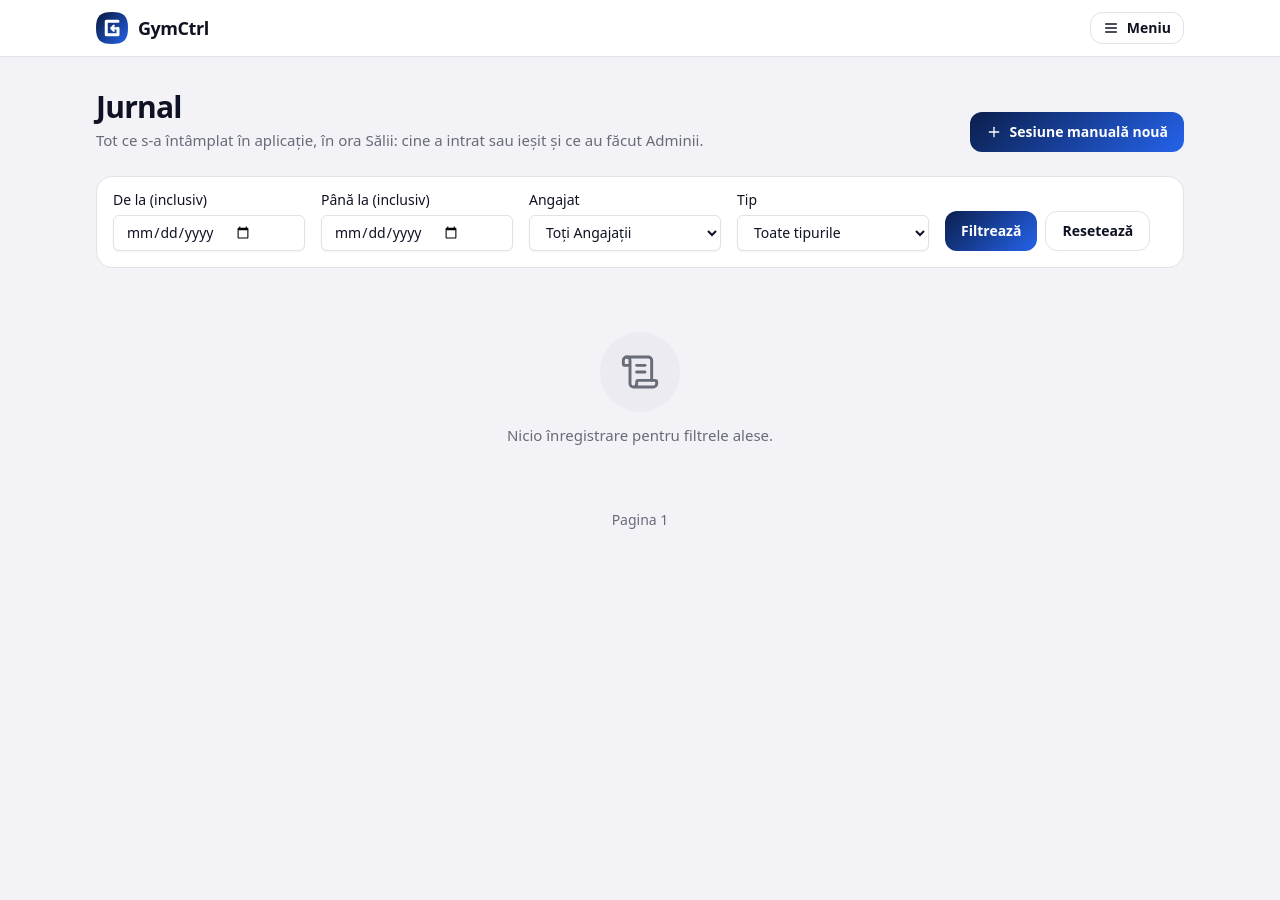
Test: Sesiuni manuale › arată o eroare fără câmp (suprapunere) la nivel de formular
The width and height of the screenshot is (1280, 900).
Click the button "Sesiune manuală nouă" at (1077, 132), box left=970, top=112, right=1184, bottom=152
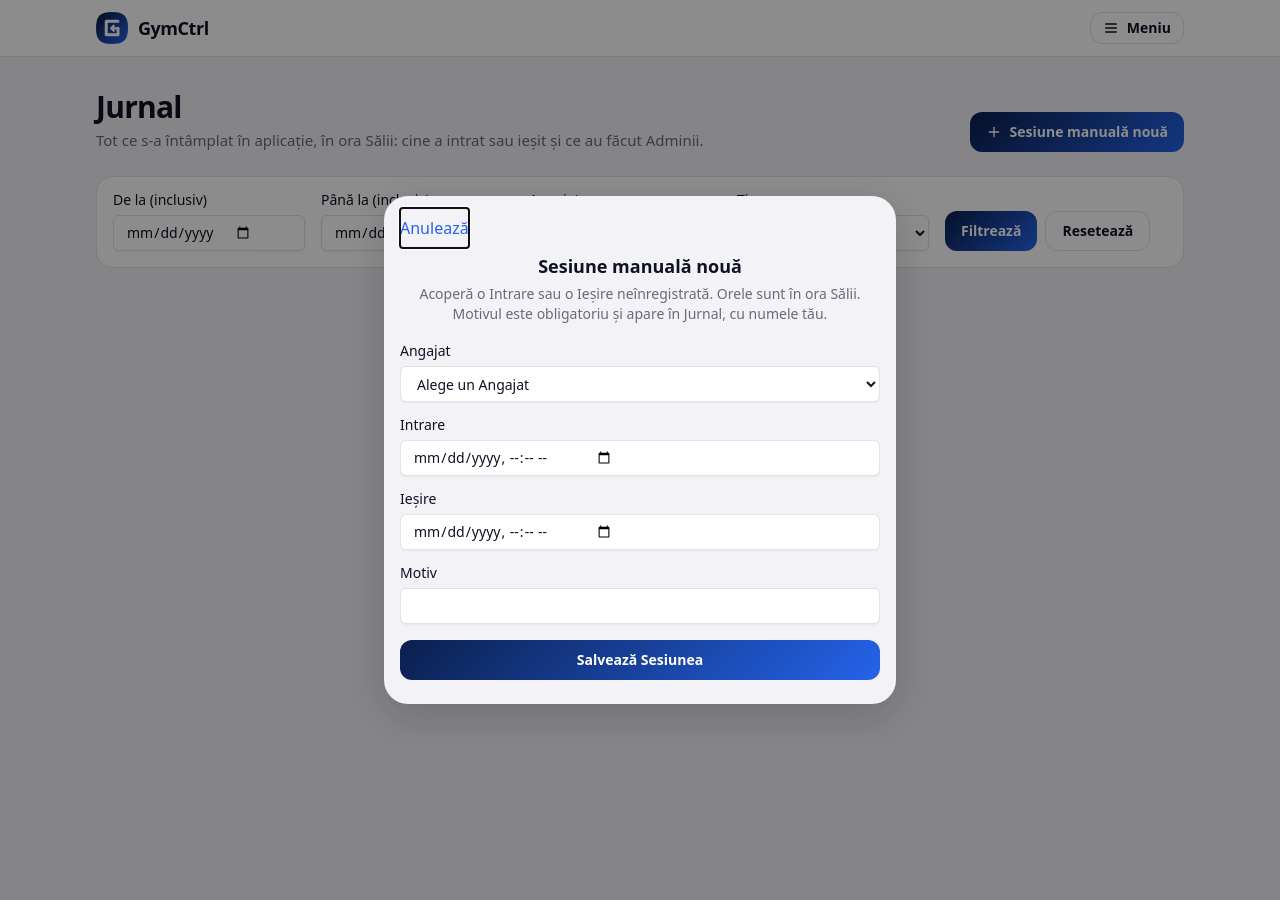
Click the button "Salvează Sesiunea" at (640, 660), box left=400, top=640, right=880, bottom=680
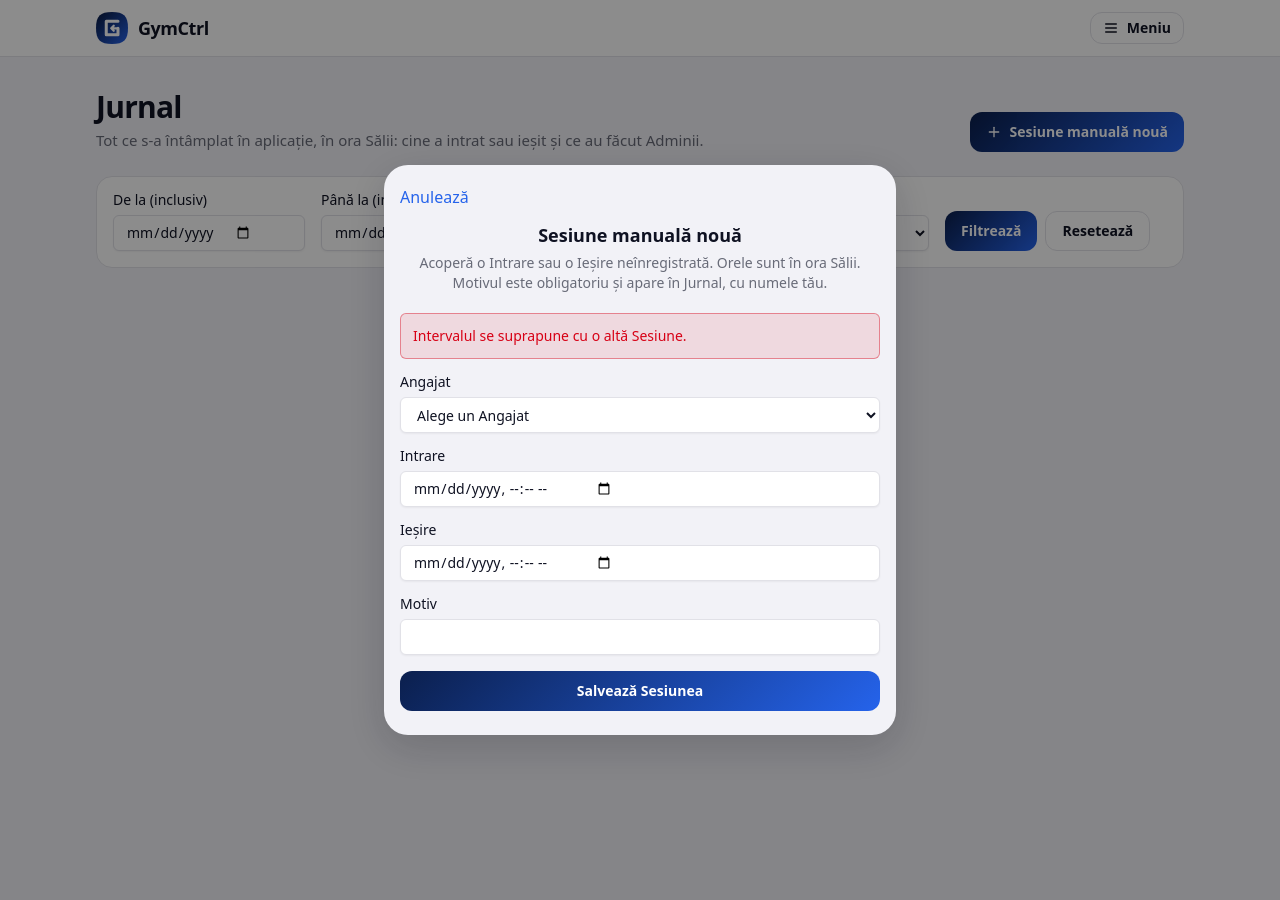
Expected: the message reads "Intervalul se suprapune cu o altă Sesiune.", left=413, top=326, right=687, bottom=345
